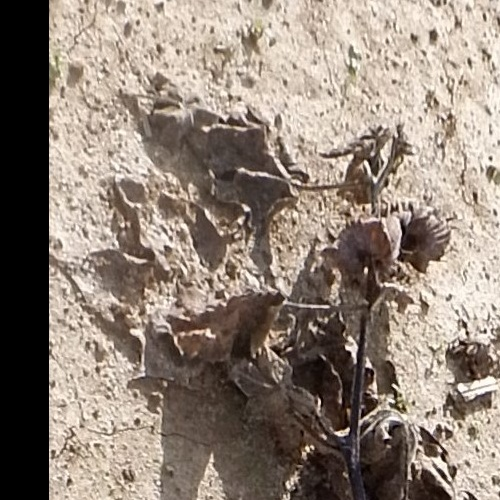immature_boll: (124, 38, 432, 416)
